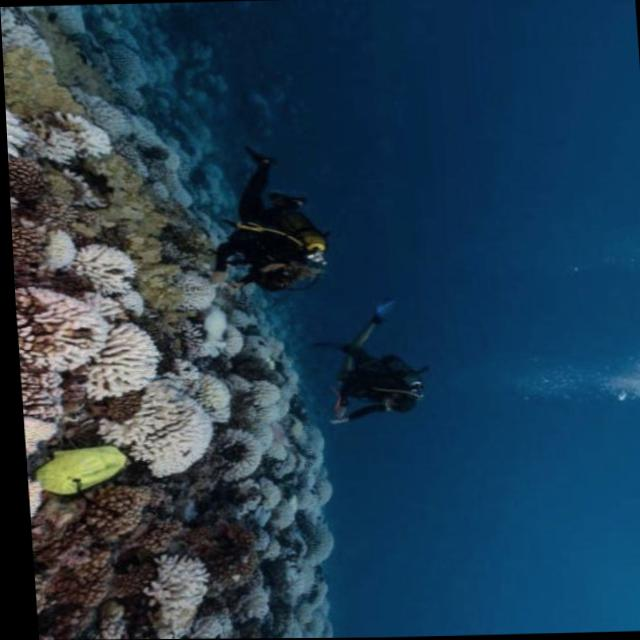Bleached Coral: (18, 281, 324, 637), (68, 12, 230, 204)
